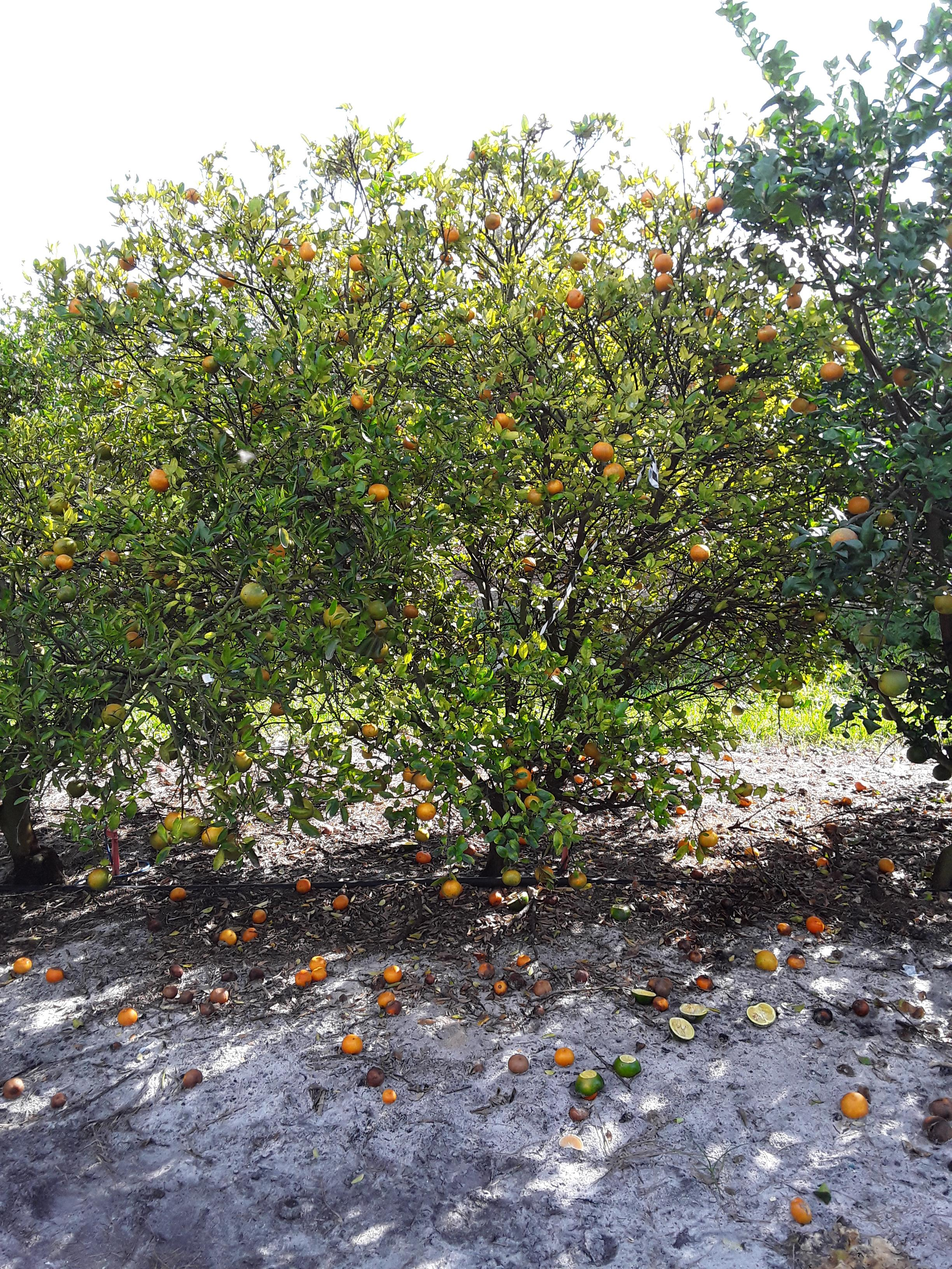fruit_on_ground: (879, 669, 910, 697), (241, 583, 267, 607), (828, 528, 858, 548), (933, 585, 952, 614), (861, 624, 886, 646), (101, 704, 126, 726), (325, 605, 348, 628), (180, 816, 202, 839), (367, 774, 389, 796), (351, 388, 374, 409), (290, 799, 315, 818), (149, 470, 171, 491), (203, 827, 225, 848), (367, 482, 390, 502), (233, 748, 252, 772), (148, 830, 172, 849), (820, 363, 845, 381), (262, 542, 285, 561), (105, 377, 126, 397), (48, 493, 68, 513), (161, 741, 180, 762), (592, 442, 614, 460), (93, 442, 115, 460), (848, 496, 870, 514), (53, 536, 75, 554), (368, 599, 386, 621), (893, 368, 916, 385), (299, 241, 318, 261), (604, 464, 625, 482), (164, 811, 183, 830), (118, 253, 137, 272), (146, 561, 166, 579), (512, 768, 530, 788), (236, 375, 256, 393), (339, 720, 360, 737), (348, 253, 367, 271), (654, 273, 673, 291), (415, 773, 435, 790), (66, 781, 86, 798), (415, 803, 436, 819), (655, 254, 673, 272), (350, 282, 368, 300), (691, 544, 710, 561), (166, 571, 185, 588), (534, 866, 553, 883), (570, 251, 587, 270), (100, 550, 120, 566), (502, 870, 522, 886), (567, 288, 583, 308), (569, 872, 587, 889), (707, 196, 724, 214), (201, 355, 219, 372), (747, 389, 766, 405), (361, 721, 380, 737), (757, 325, 776, 341), (56, 587, 77, 601), (529, 488, 546, 505), (39, 551, 56, 568), (56, 554, 73, 571), (442, 225, 458, 243), (403, 432, 419, 449), (125, 631, 142, 647), (270, 701, 287, 717), (485, 212, 501, 229), (219, 270, 235, 287), (597, 302, 613, 319), (714, 356, 730, 373), (546, 479, 564, 494), (252, 667, 270, 682), (700, 831, 718, 846), (718, 375, 736, 390), (404, 764, 417, 784), (705, 307, 722, 322), (790, 398, 809, 411), (248, 402, 264, 417), (493, 412, 509, 427), (879, 513, 895, 528), (527, 306, 542, 322), (335, 330, 350, 346), (524, 794, 541, 808), (786, 294, 803, 308), (469, 149, 487, 162), (688, 204, 701, 222), (642, 189, 654, 208), (943, 223, 952, 248), (508, 392, 524, 406), (403, 603, 419, 617), (590, 218, 604, 234), (373, 619, 388, 633), (584, 743, 599, 757), (611, 777, 625, 792), (789, 278, 803, 293), (521, 558, 537, 571), (778, 695, 794, 708), (70, 298, 83, 314), (460, 308, 476, 321), (401, 400, 415, 414), (398, 494, 411, 509), (377, 642, 390, 657), (678, 839, 693, 852), (272, 255, 287, 268), (125, 283, 138, 298), (438, 334, 454, 346), (546, 667, 560, 680), (478, 388, 493, 400), (713, 676, 728, 688), (468, 641, 481, 654), (416, 829, 430, 841), (649, 248, 663, 260), (805, 404, 818, 416), (637, 494, 651, 505), (672, 766, 686, 777), (791, 601, 803, 613), (400, 300, 412, 312), (361, 748, 374, 759), (280, 236, 291, 249), (814, 612, 828, 622), (265, 629, 276, 641), (732, 705, 744, 716), (552, 190, 564, 201), (478, 267, 488, 280), (736, 612, 747, 623), (493, 372, 504, 383), (372, 655, 386, 663), (765, 448, 776, 458), (441, 253, 452, 263), (526, 375, 536, 386), (507, 418, 515, 431), (490, 469, 499, 480), (365, 364, 376, 373), (505, 737, 513, 749), (574, 774, 584, 783), (476, 373, 486, 382), (539, 304, 546, 316), (591, 779, 601, 787), (602, 626, 613, 633), (634, 582, 643, 590), (702, 517, 710, 525), (717, 457, 725, 464), (621, 662, 627, 668), (725, 442, 730, 449)
fruit_on_tree: (745, 1001, 777, 1030), (842, 1092, 868, 1121), (574, 1070, 602, 1095), (925, 1117, 950, 1145), (791, 1194, 812, 1227), (614, 1053, 642, 1077), (753, 949, 778, 975), (86, 868, 112, 891), (668, 1017, 694, 1040), (504, 891, 530, 912), (3, 1078, 27, 1100), (508, 1053, 530, 1075), (650, 976, 674, 994), (443, 879, 464, 899), (805, 915, 826, 935), (341, 1034, 362, 1054), (116, 1008, 139, 1026), (678, 1002, 707, 1016), (788, 953, 810, 971), (570, 1104, 590, 1123), (631, 988, 656, 1003), (12, 958, 35, 974), (851, 999, 871, 1017), (611, 904, 632, 921), (931, 1098, 952, 1115), (384, 965, 404, 982), (534, 980, 552, 998), (556, 1048, 575, 1065), (184, 1070, 201, 1088), (332, 895, 351, 911), (296, 969, 312, 988), (695, 976, 715, 991), (211, 988, 232, 1002), (368, 1068, 385, 1085), (46, 967, 65, 982), (816, 1009, 835, 1024), (219, 928, 235, 945), (478, 963, 495, 979), (378, 991, 395, 1007), (309, 955, 327, 970), (880, 856, 896, 872), (852, 778, 869, 793), (735, 795, 754, 808), (416, 850, 432, 865), (488, 890, 504, 905), (776, 921, 792, 936), (311, 968, 327, 983), (387, 1002, 403, 1017), (575, 968, 589, 985), (298, 876, 311, 894), (690, 868, 705, 883), (168, 964, 184, 978), (250, 968, 266, 982), (515, 954, 532, 967), (198, 1003, 215, 1016), (252, 909, 266, 924), (147, 919, 162, 933), (242, 927, 256, 942), (52, 1093, 67, 1107), (383, 1089, 397, 1103), (171, 887, 186, 900), (221, 970, 236, 983), (823, 822, 839, 834), (816, 856, 830, 869), (509, 974, 522, 988), (162, 985, 176, 998), (744, 846, 759, 858), (495, 981, 507, 996), (181, 991, 193, 1004), (654, 998, 667, 1009), (534, 1005, 545, 1017), (462, 846, 476, 855), (691, 951, 702, 962), (722, 753, 733, 764), (676, 805, 687, 815), (712, 775, 722, 785), (425, 973, 434, 984)
